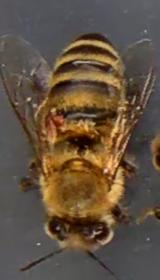varroa_mite: (41, 111, 68, 130)
